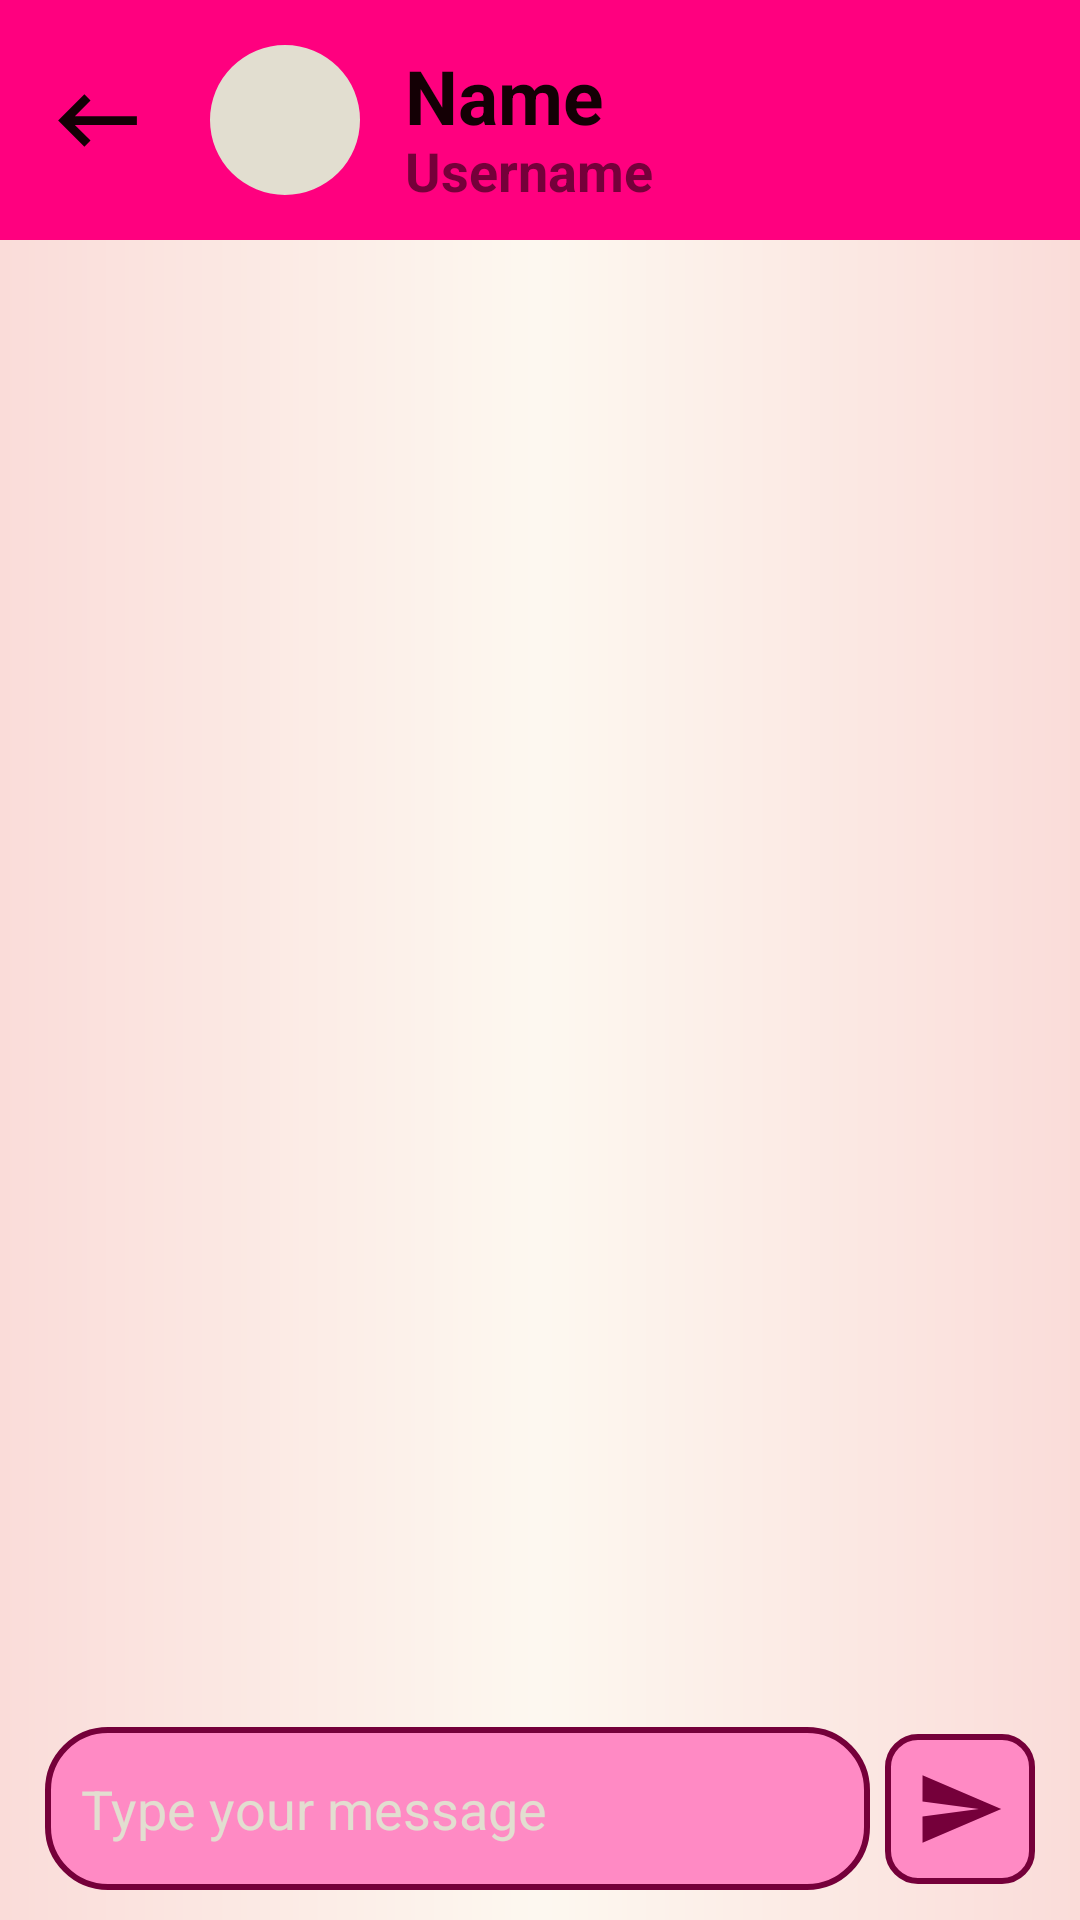

Icon bounding boxes for this 1080 x 1920 phone screenshot, format (x1, y1, x2, y2):
back: (58, 94, 137, 147)
send: (885, 1734, 1035, 1884)
